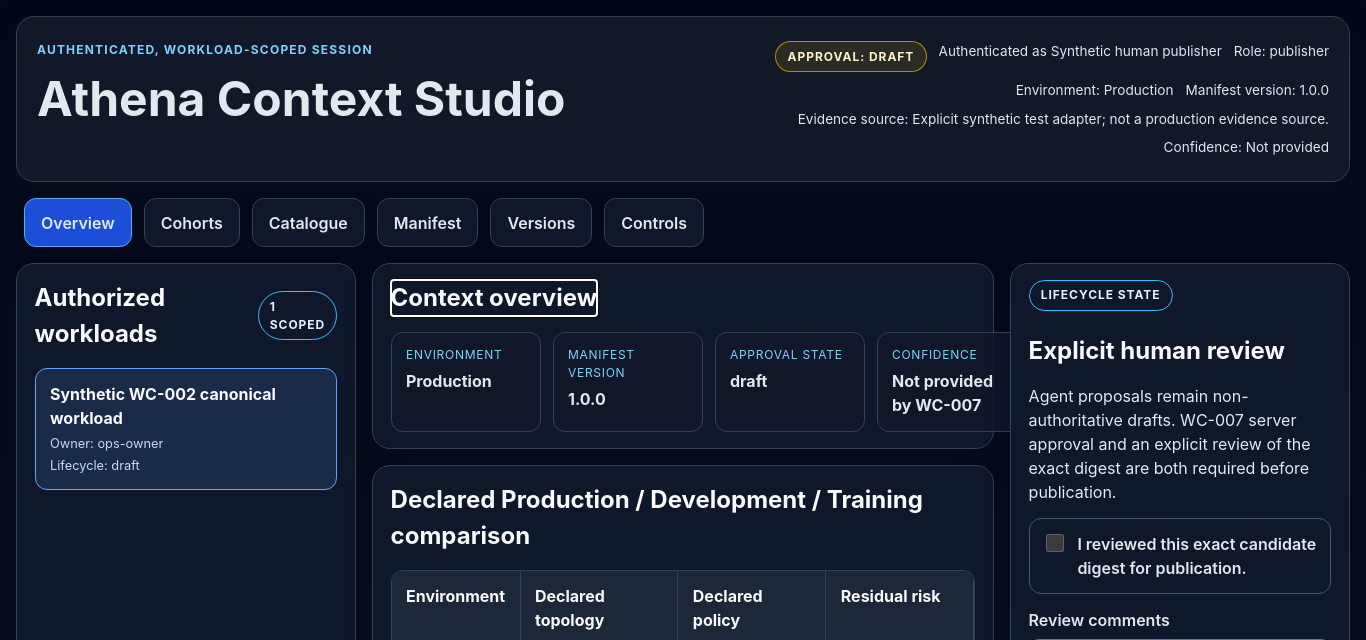
Test: Context Studio › blocks stale edits when automatic refresh observes a newer revision
Click the button "Manifest": [428, 223] box 377,198 -> 478,247
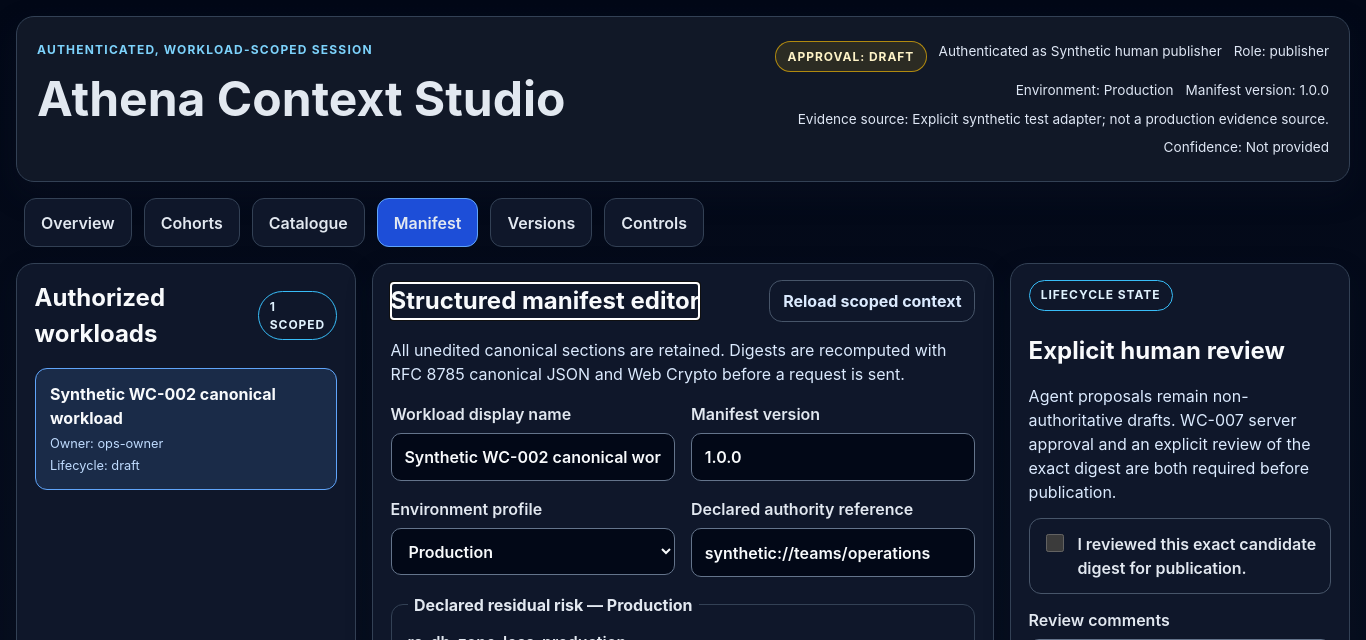
Replace the text in the field labelled "Workload display name" with "Unsaved revision A edit": [533, 457] box 391,433 -> 675,481
Click the button "Overview": [78, 223] box 24,198 -> 132,247
Wait 1001 ms
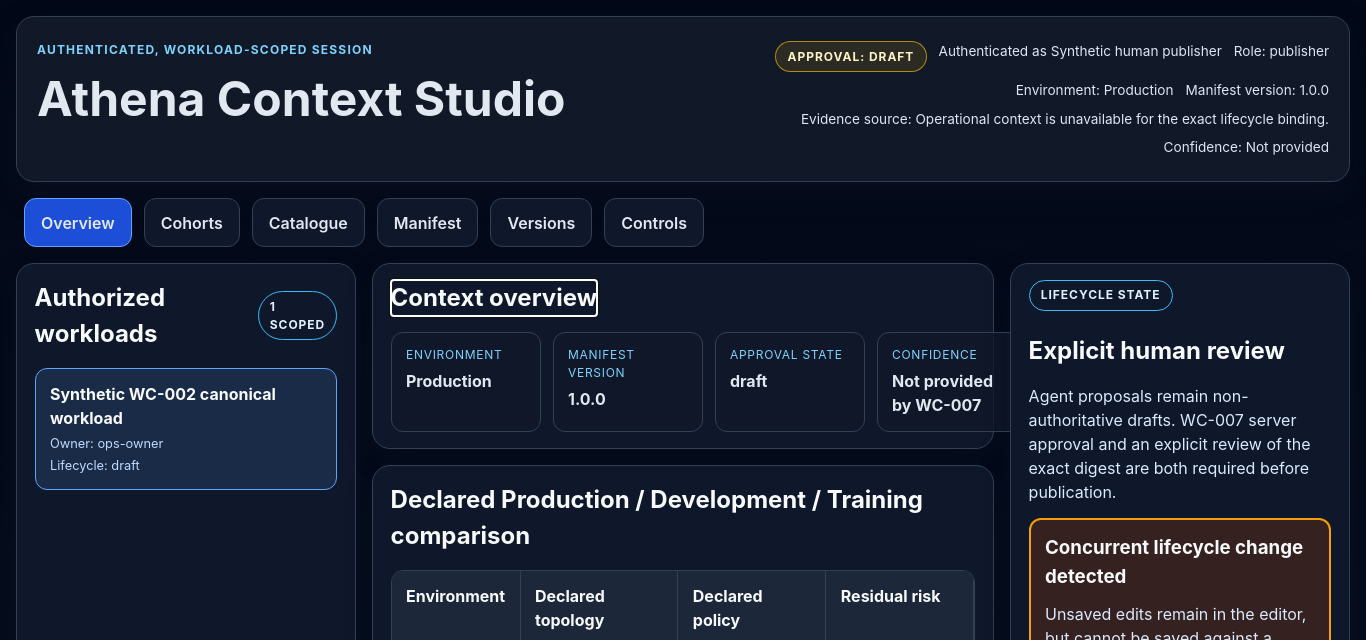
Expected: the heading "Concurrent lifecycle change detected" is shown, 1045,534 -> 1315,591
Click the button "Manifest": [428, 223] box 377,198 -> 478,247
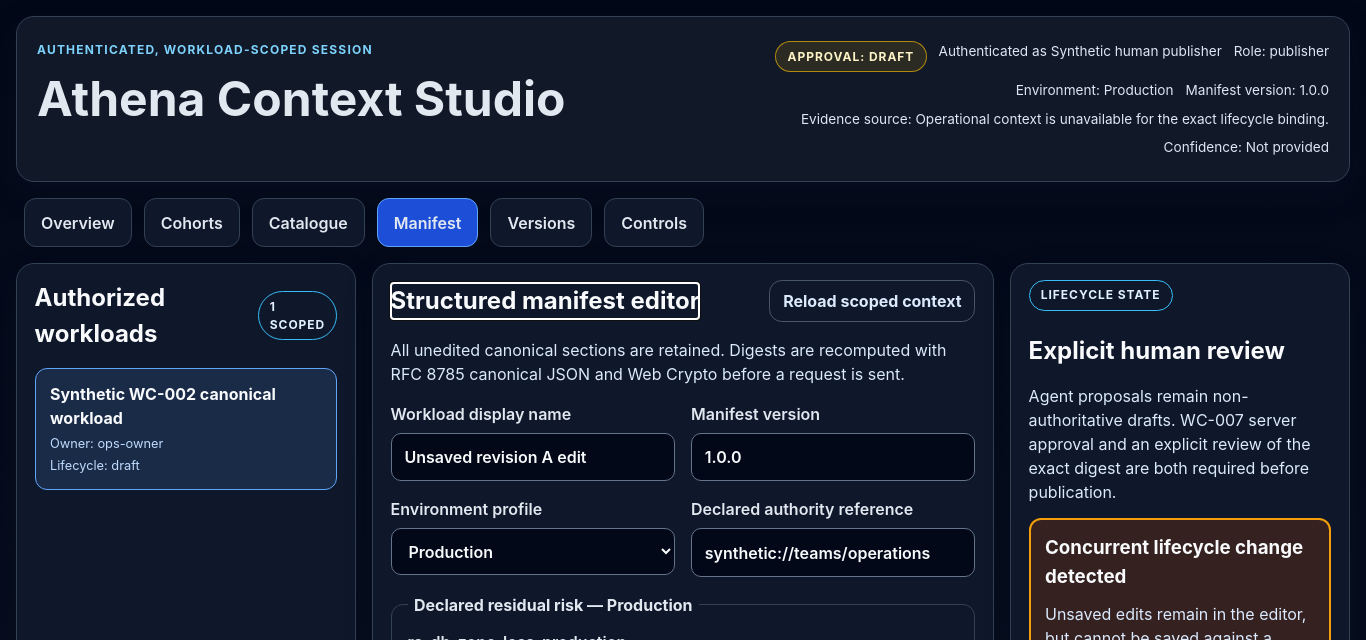
Expected: the field labelled "Workload display name" holds "Unsaved revision A edit", 391,433 -> 675,481
Click the button "Cohorts": [192, 223] box 144,198 -> 240,247
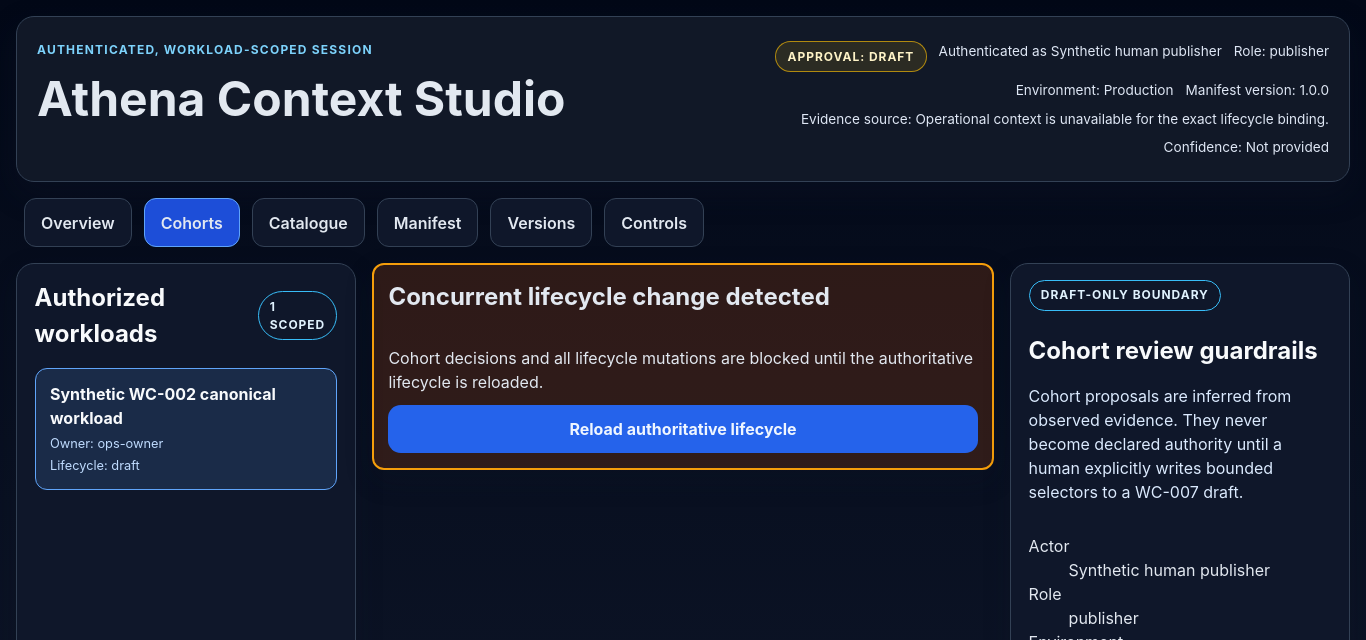
Expected: the heading "cohort proposal review" is not shown
Click the button "Reload authoritative lifecycle": [683, 429] box 388,405 -> 978,453
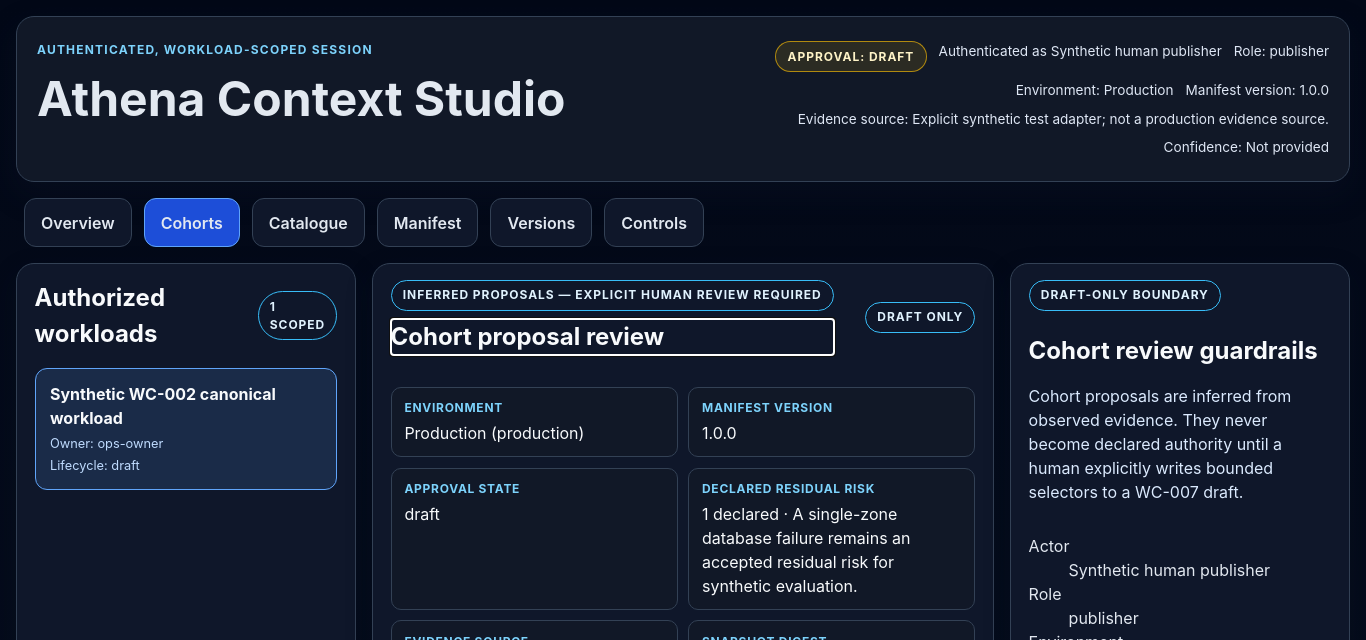
Click the button "Manifest": [428, 223] box 377,198 -> 478,247
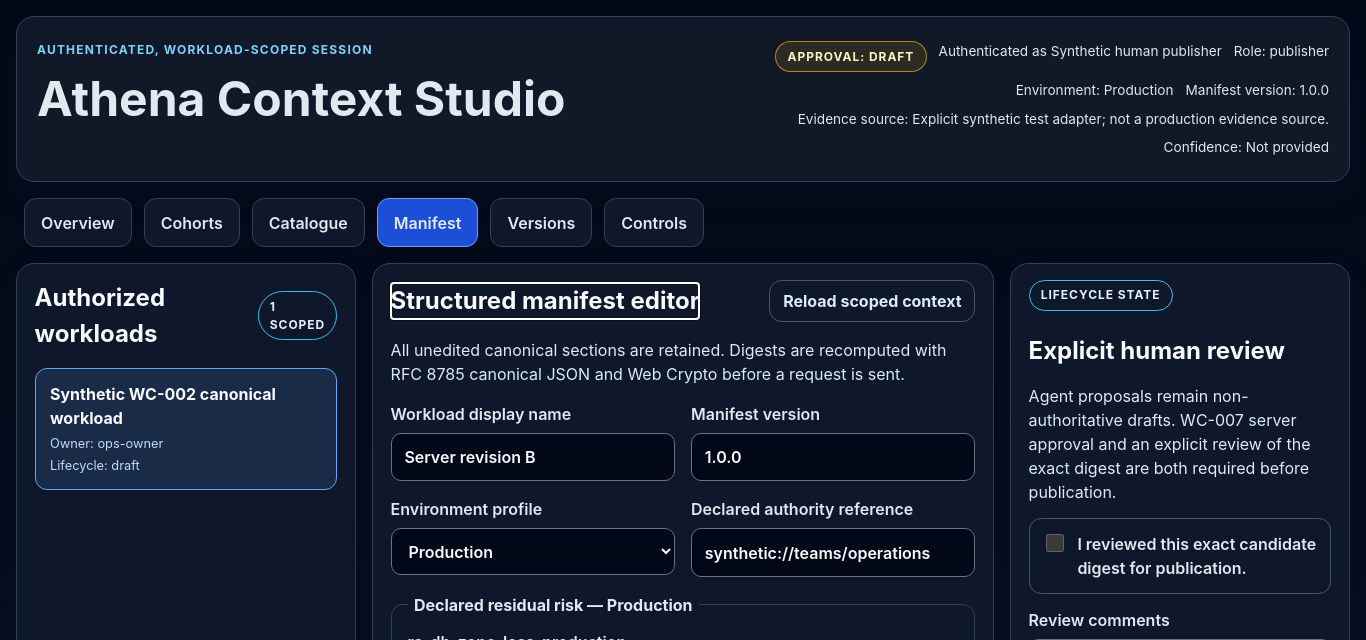
Expected: the field labelled "Workload display name" holds "Server revision B", 391,433 -> 675,481
